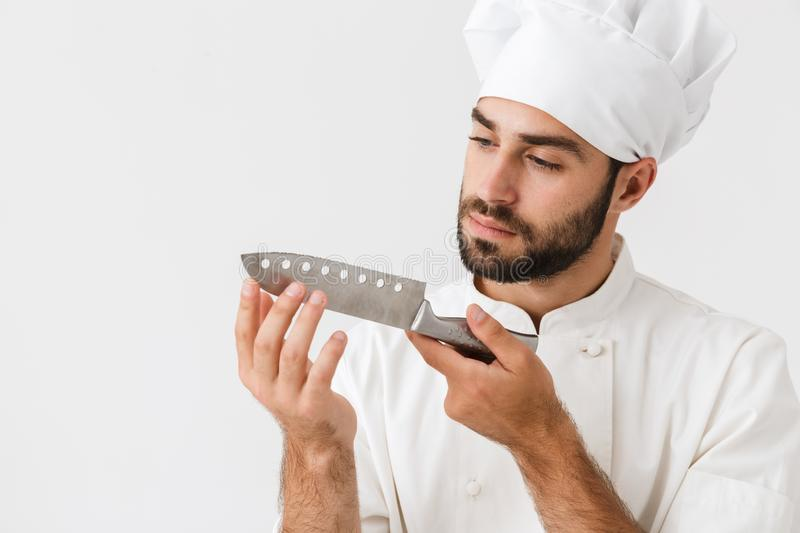criminal: (234, 0, 800, 533)
weapon: (238, 248, 541, 364)
